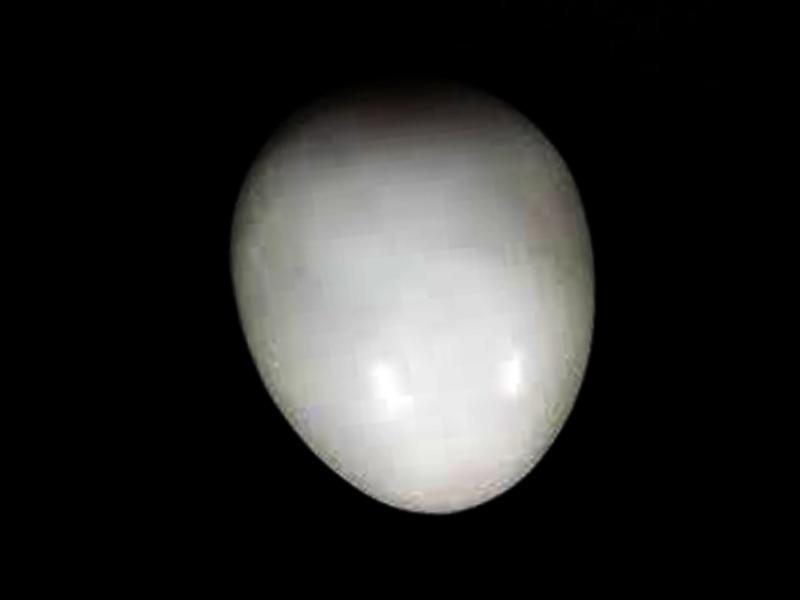Eggs: (216, 50, 616, 531)
